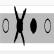correct: (29, 15, 38, 36)
not correct: (13, 4, 27, 48)
